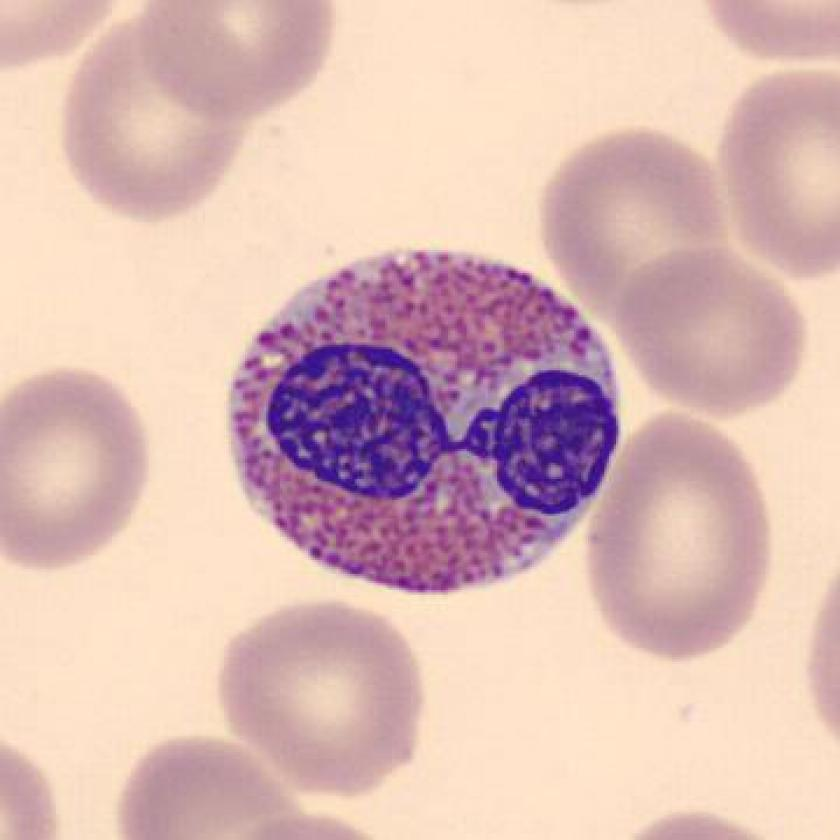eosinophil: (218, 239, 636, 612)
